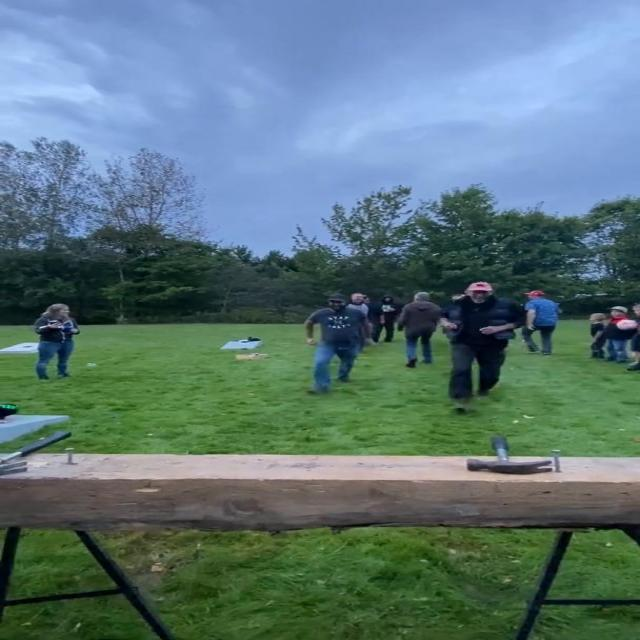hammer: (467, 436, 553, 474), (0, 431, 72, 475)
